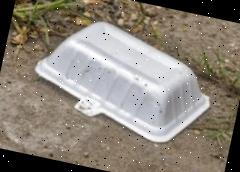general: (24, 8, 222, 152)
